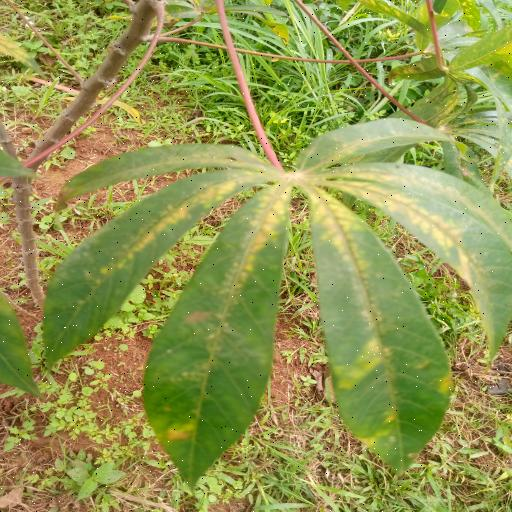Cassava_Mosaic: (46, 119, 512, 492)
